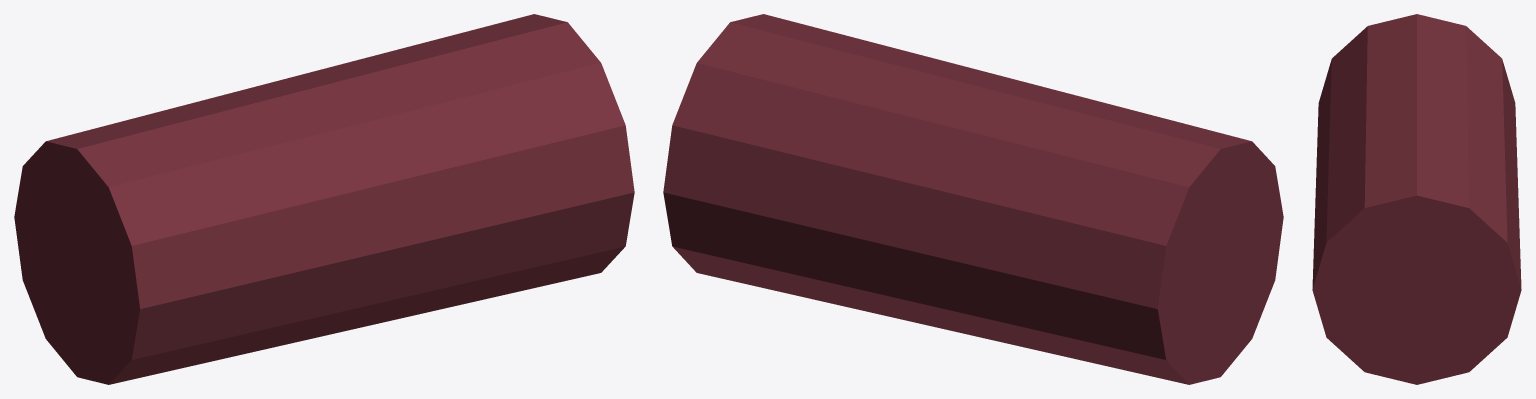
Rendered from SinSleeveRight.fbx.
3 views of the same model, side by side, from view 1: azimuth 30°, elevation 25°; view 2: azimuth 150°, elevation 25°; view 3: azimuth 270°, elevation 25° (orthographic). The views are drawn at different scales.
Visible parts, largest first — view 1: SinSleeveRight; view 2: SinSleeveRight; view 3: SinSleeveRight.
Boxes of the visible parts, x1,y1,x2,y2 form: SinSleeveRight: [14, 14, 634, 384]; SinSleeveRight: [663, 14, 1283, 384]; SinSleeveRight: [1312, 14, 1521, 384].
Size of the model in its own units: 14.4 by 6.8 by 6.8.
